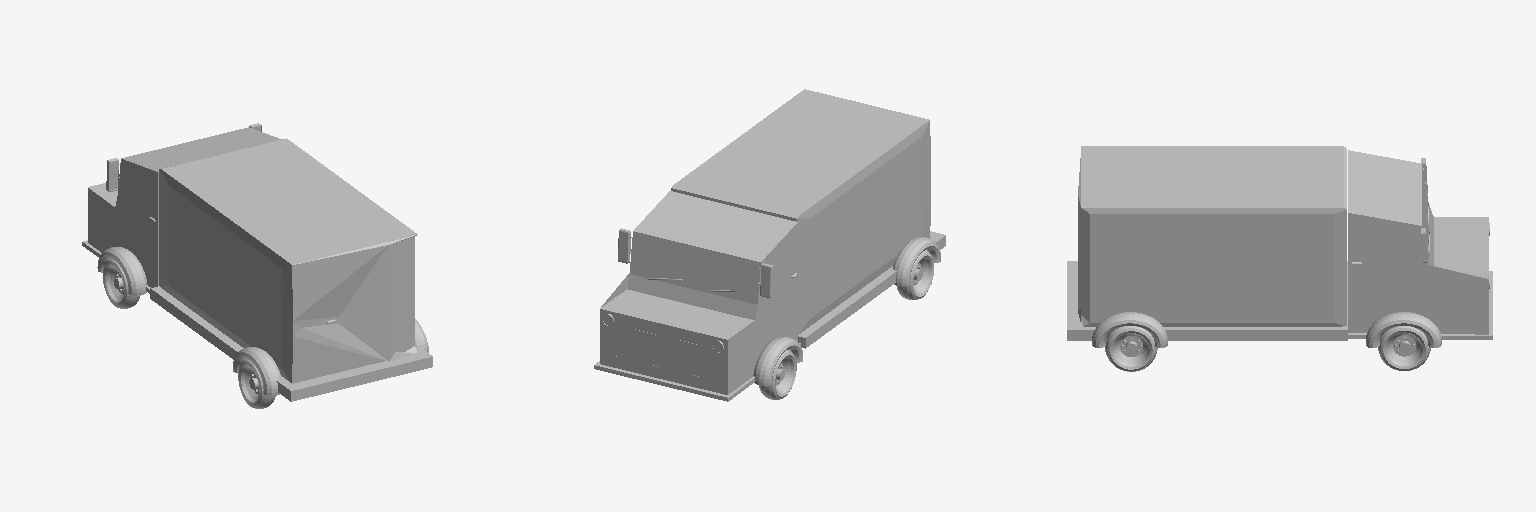
Rendered from UBS Kamyon.obj.
The picture shows the model from 3 angles: view 1: azimuth 30°, elevation 25°; view 2: azimuth 150°, elevation 25°; view 3: azimuth 270°, elevation 25°; orthographic projection.
Visible parts, largest first — view 1: Kasa_Cube, Gövde_Cube.001, Cube_Cube.006, Çamurluk.001_Torus.006, Çamurluk.003_Torus.010, tekerlek.003_Torus.009, tekerlek.001_Torus.005; view 2: Kasa_Cube, Gövde_Cube.001, Cube_Cube.006, ızgara_Cube.003, Izgara_Boşlu_Cube.004, Çamurluk.001_Torus.006, Çamurluk.003_Torus.010, Cube.001_Cube.005, tekerlek.001_Torus.005, tekerlek.003_Torus.009; view 3: Kasa_Cube, Gövde_Cube.001, Cube_Cube.006, Çamurluk.005_Torus.003, Çamurluk.004_Torus.012, tekerlek.004_Torus.011, tekerlek_Torus.001, Cube.001_Cube.005, Cylinder_Cylinder.002, Cylinder.004_Cylinder.064.
Part boxes in pixels (x1,y1,x2,y2): Kasa_Cube: (159,138,417,383); Gövde_Cube.001: (88,127,281,287); Cube_Cube.006: (150,286,432,401); Çamurluk.001_Torus.006: (97,247,146,295); Çamurluk.003_Torus.010: (233,347,280,395); tekerlek.003_Torus.009: (238,360,275,408); tekerlek.001_Torus.005: (103,259,139,308); Kasa_Cube: (671,89,930,334); Gövde_Cube.001: (600,191,797,394); Cube_Cube.006: (798,231,945,348); ızgara_Cube.003: (616,325,710,376); Izgara_Boşlu_Cube.004: (616,329,710,378); Çamurluk.001_Torus.006: (753,337,802,385); Çamurluk.003_Torus.010: (893,237,940,285); Cube.001_Cube.005: (594,343,800,401); tekerlek.001_Torus.005: (759,350,796,399); tekerlek.003_Torus.009: (897,250,933,299); Kasa_Cube: (1078,146,1346,326); Gövde_Cube.001: (1348,150,1488,334); Cube_Cube.006: (1067,261,1347,340); Çamurluk.005_Torus.003: (1366,312,1441,347); Çamurluk.004_Torus.012: (1092,312,1167,347); tekerlek.004_Torus.011: (1105,326,1157,371); tekerlek_Torus.001: (1378,326,1430,370); Cube.001_Cube.005: (1348,271,1492,339); Cylinder_Cylinder.002: (1388,333,1420,362); Cylinder.004_Cylinder.064: (1114,333,1147,363).
Size of the model in its own units: 2.56 by 2.35 by 5.77.